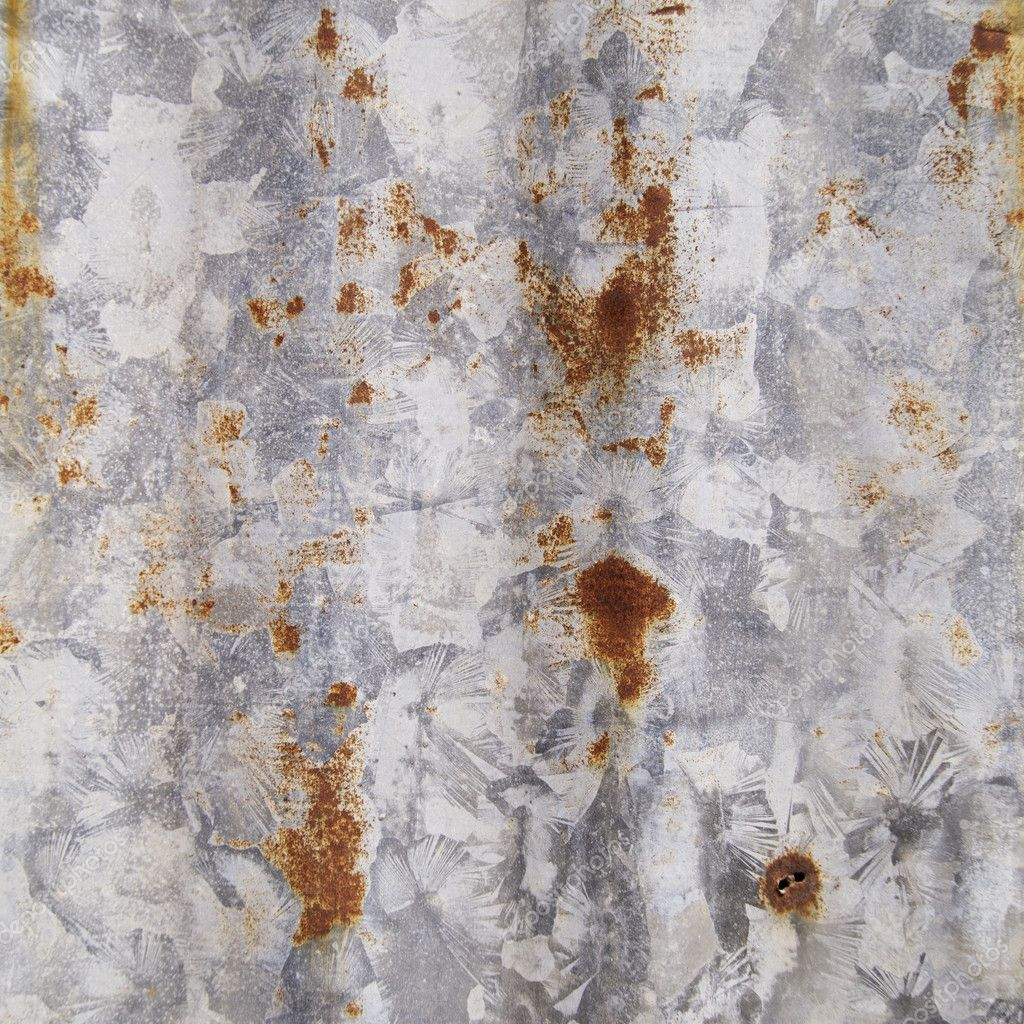rust: (554, 202, 680, 368), (281, 750, 367, 933), (576, 553, 661, 697), (755, 842, 824, 920)
